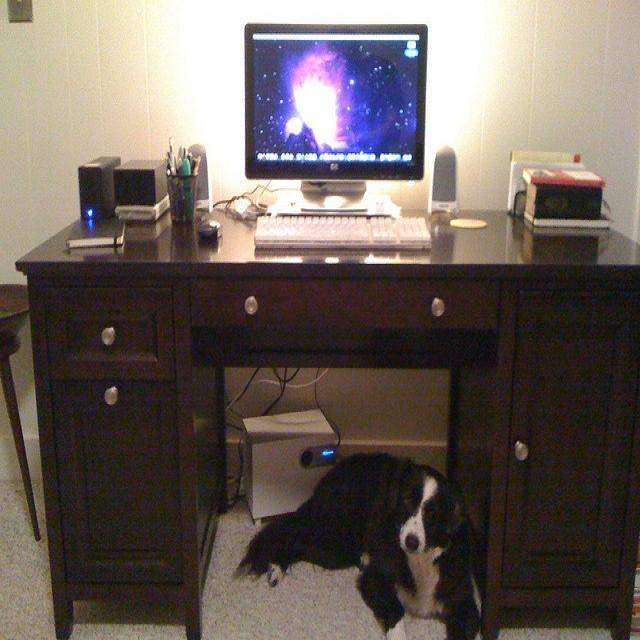dog: (233, 450, 478, 638)
